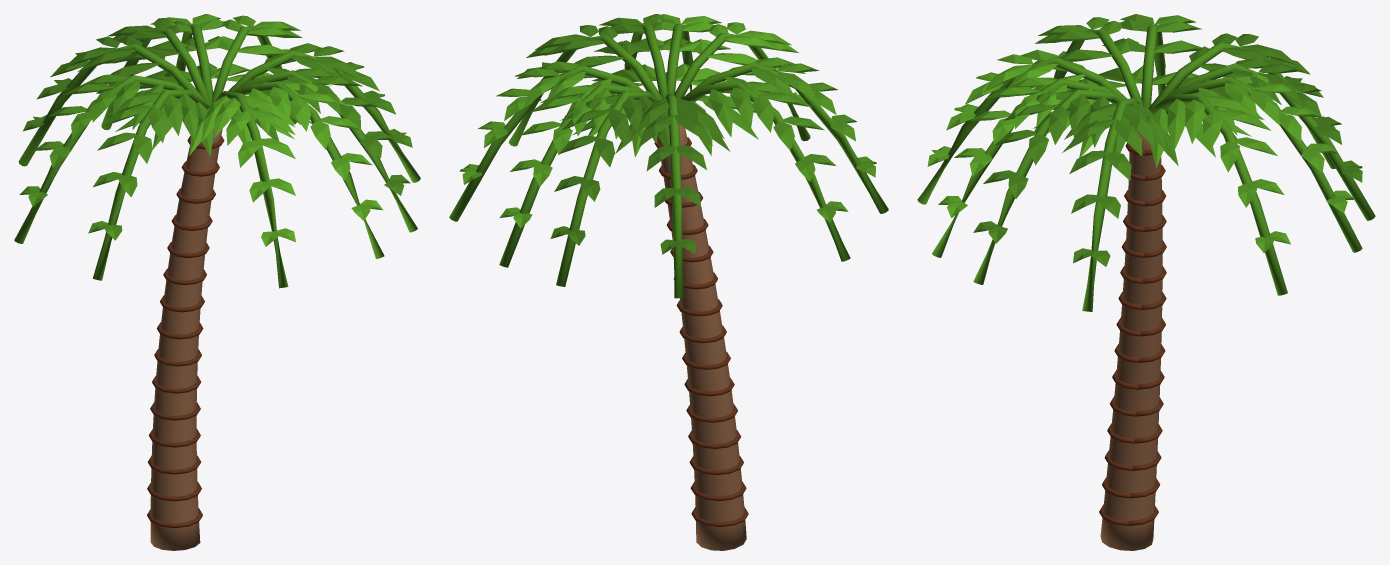
Rendered from palm-W4XP8wDr.glb.
The picture shows the model from 3 angles, left to right: view 1: azimuth 30°, elevation 25°; view 2: azimuth 150°, elevation 25°; view 3: azimuth 270°, elevation 25°; orthographic projection. The views are drawn at different scales.
Visible parts, largest first — view 1: canopy, palm; view 2: canopy, palm; view 3: canopy, palm.
Part boxes in pixels (bbox=[...]): canopy: bbox=[14, 14, 420, 288]; palm: bbox=[147, 127, 224, 550]; canopy: bbox=[449, 14, 888, 298]; palm: bbox=[654, 125, 748, 550]; canopy: bbox=[917, 14, 1375, 311]; palm: bbox=[1099, 123, 1166, 550].
Bounding box in the file's own units: 4.4 × 5.3 × 4.4.
